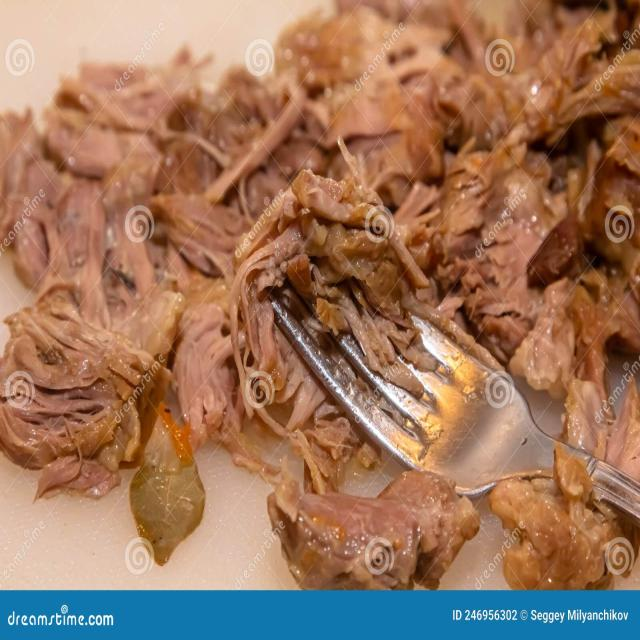carne de cerdo: (53, 66, 364, 306)
